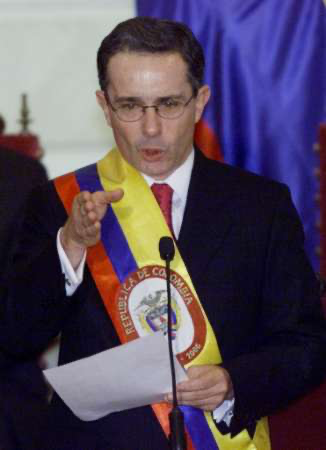Face: (103, 65, 200, 177)
